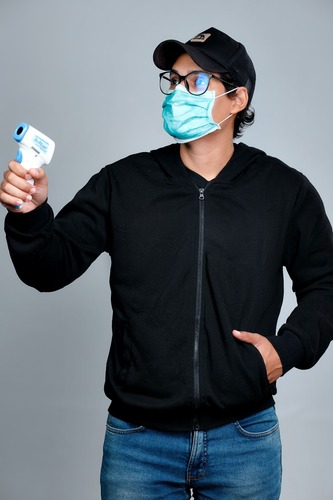with_mask: (166, 62, 225, 141)
